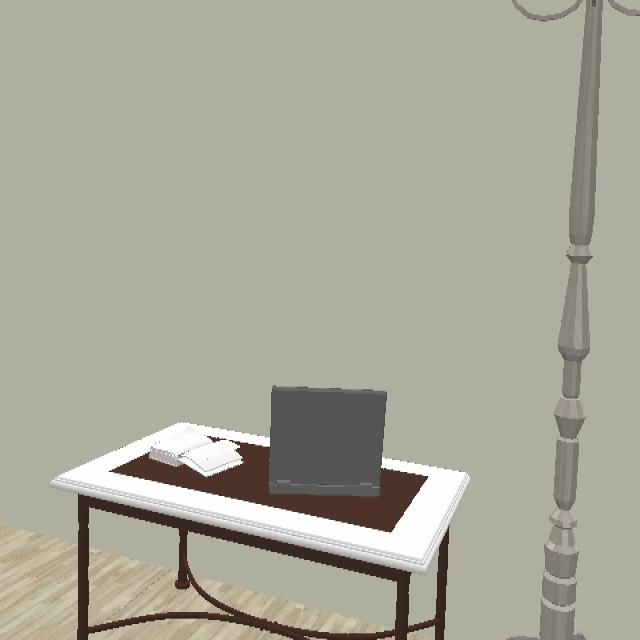book: (149, 431, 244, 477)
laptop: (268, 387, 388, 500)
table: (50, 423, 470, 640)
